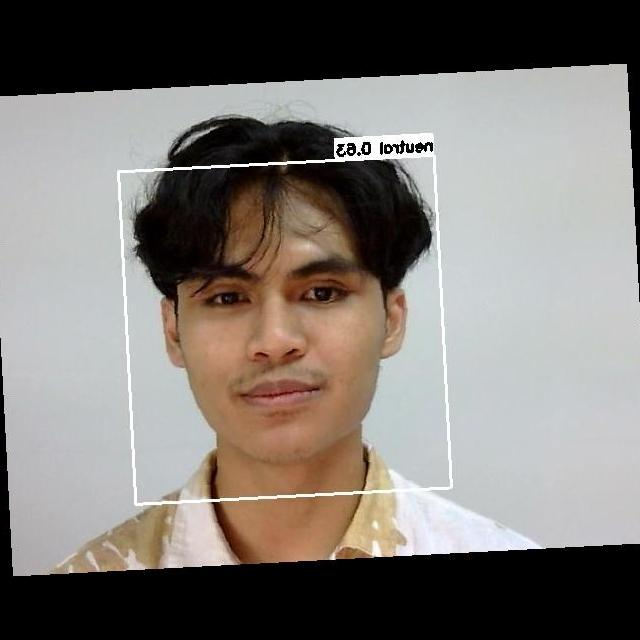Natural: (174, 229, 392, 439)
